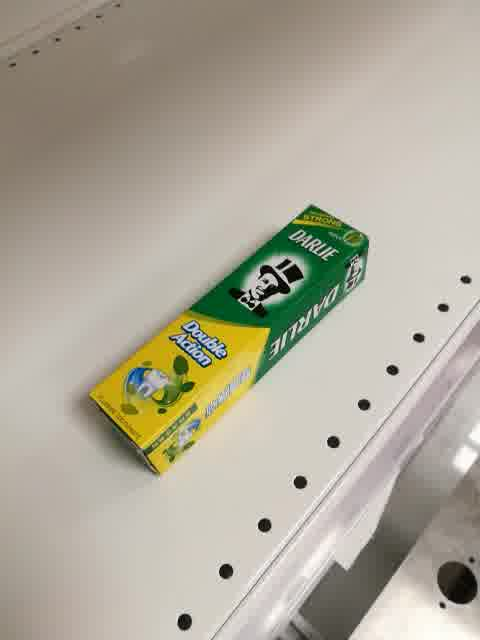toothpaste: (88, 203, 371, 480)
